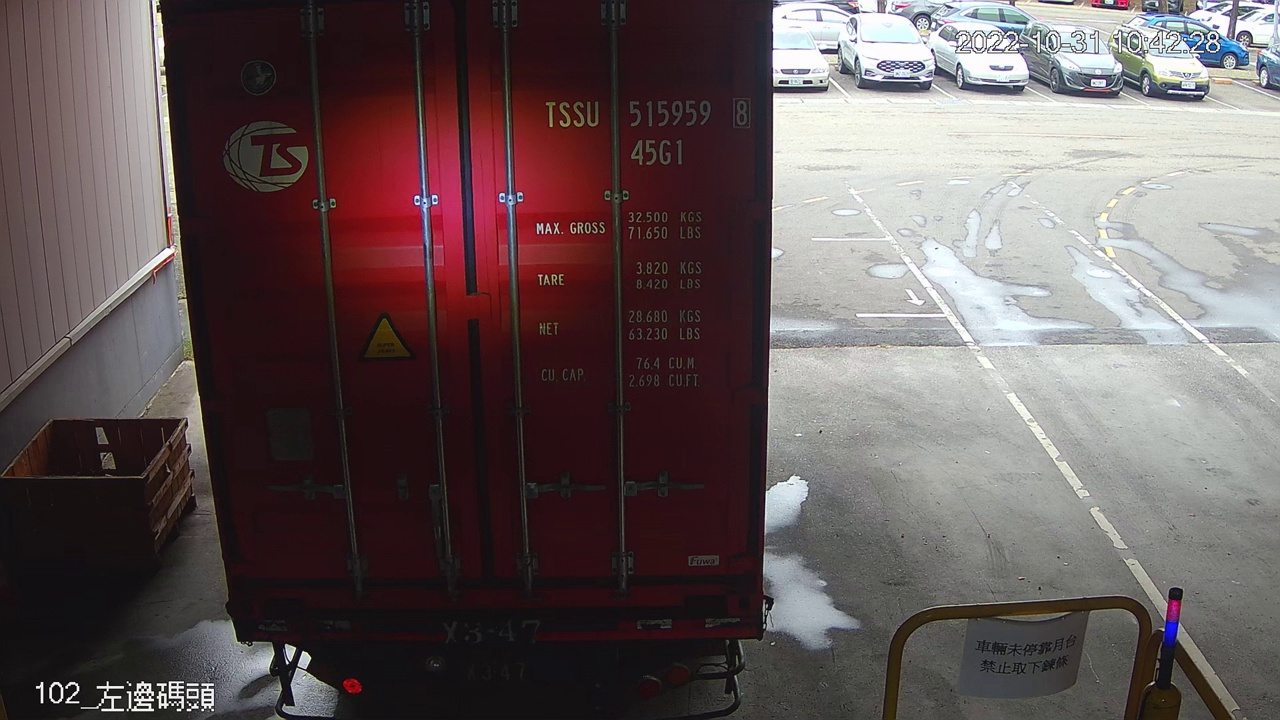container: (535, 88, 760, 173)
